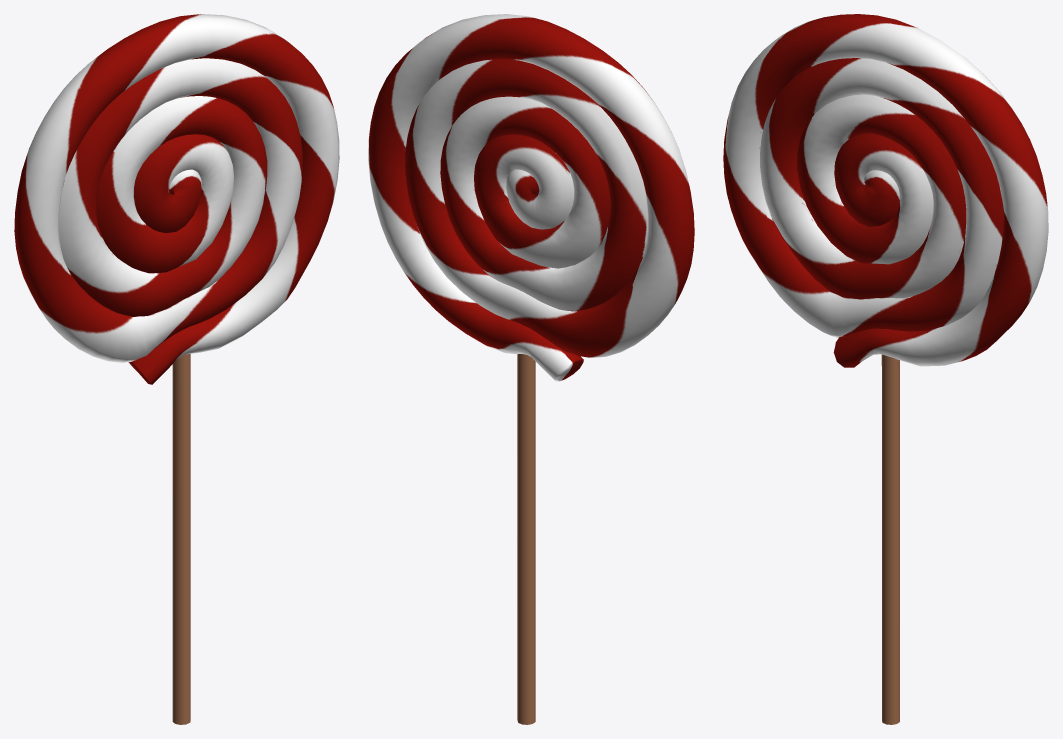
The model's file is candy.fbx.
3 views of the same model, side by side, from view 1: azimuth 30°, elevation 25°; view 2: azimuth 150°, elevation 25°; view 3: azimuth 330°, elevation 25° (orthographic).
Parts seen in each view (by area): view 1: node_id71; view 2: node_id71; view 3: node_id71.
Boxes of the visible parts, x1=… form: node_id71: x1=14, y1=14, x2=339, y2=724; node_id71: x1=368, y1=14, x2=694, y2=724; node_id71: x1=723, y1=14, x2=1048, y2=724.
Size of the model in its own units: 0.2435 by 0.512 by 0.0309.
1 material, 1 textured.
